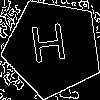H: (28, 23, 71, 73)
